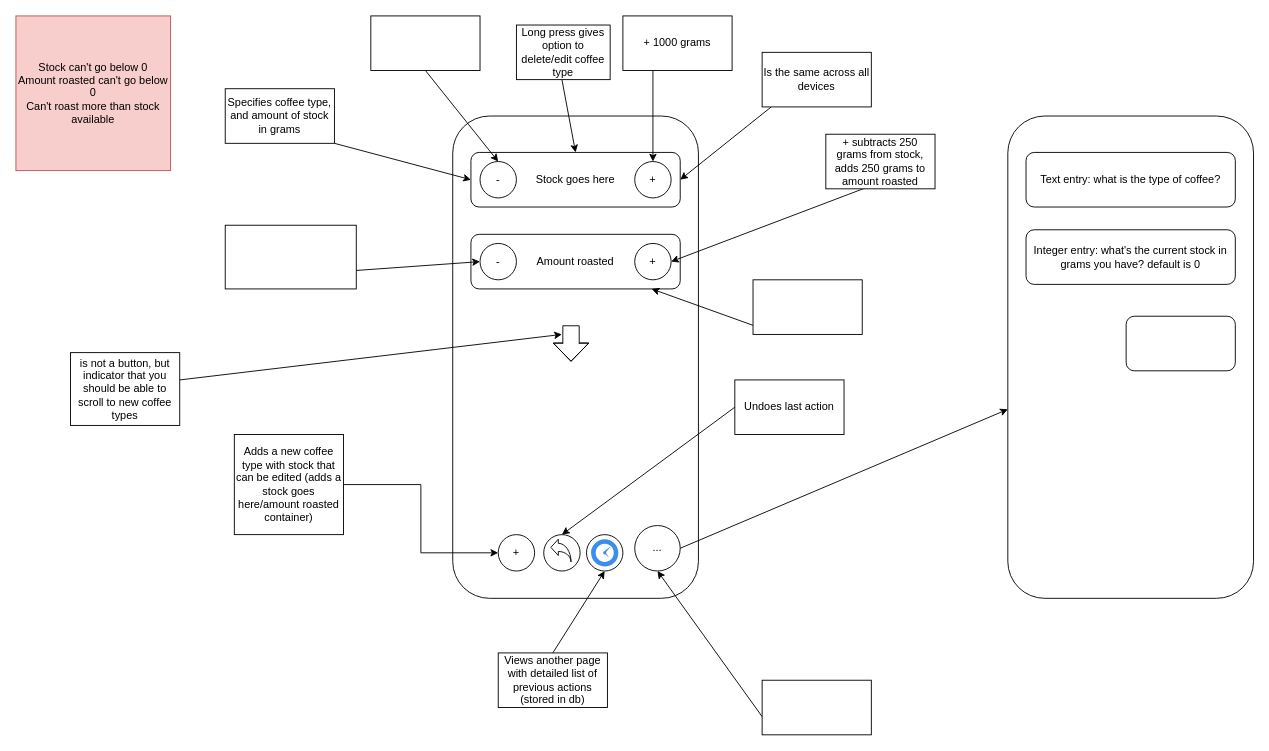
This 1269x751 diagram has some shape labels left out. The shapes that lost their labels are listed below. From the top down, each one's centre as x and y in pixels, then its label:
the point at 425,43: - 1000 grams
the point at 290,256: - subtracts 250 grams from amount roasted, adds 250 grams to stock
the point at 807,306: Gets cleared after each session
the point at 1180,343: Submit
the point at 816,707: Clicking reveals the 3 buttons on the left
